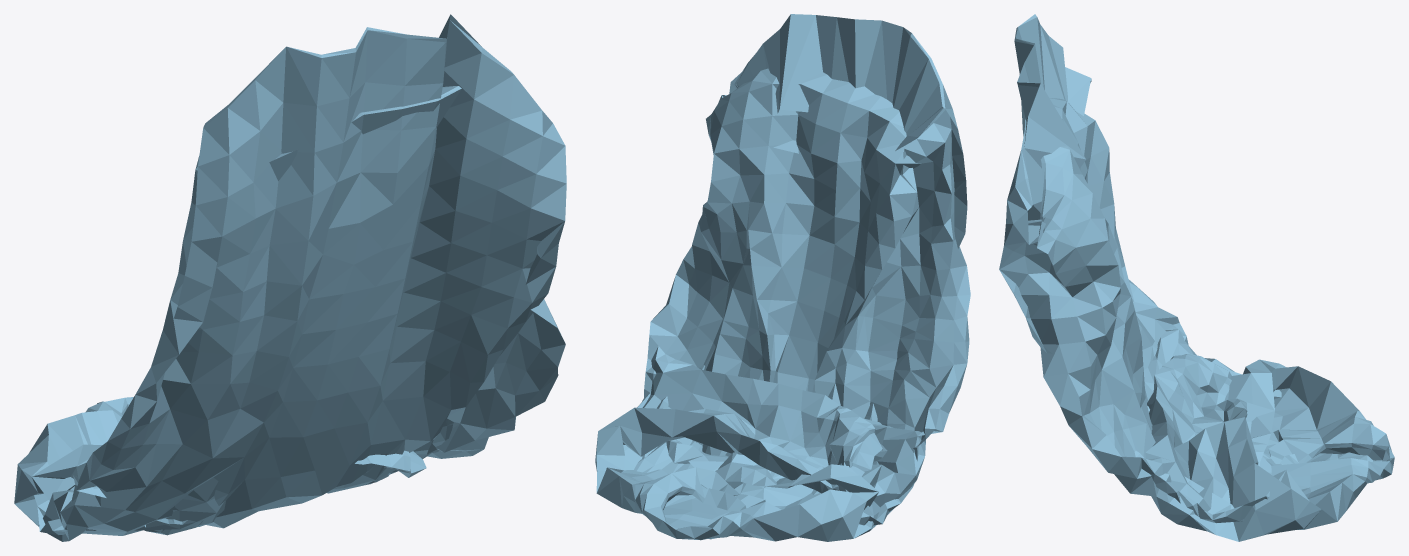
Rendered from frame_09.glb.
3 renders of one model, left to right at view 1: azimuth 30°, elevation 25°; view 2: azimuth 150°, elevation 25°; view 3: azimuth 270°, elevation 25°, orthographic. The views are drawn at different scales.
Parts seen in each view (by area): view 1: frame_09.obj; view 2: frame_09.obj; view 3: frame_09.obj.
Boxes of the visible parts, <box> form: frame_09.obj: <box>14,14,566,541</box>; frame_09.obj: <box>595,14,970,541</box>; frame_09.obj: <box>999,14,1394,541</box>.
Bounding box in the file's own units: 1.04 × 1.31 × 1.09.
